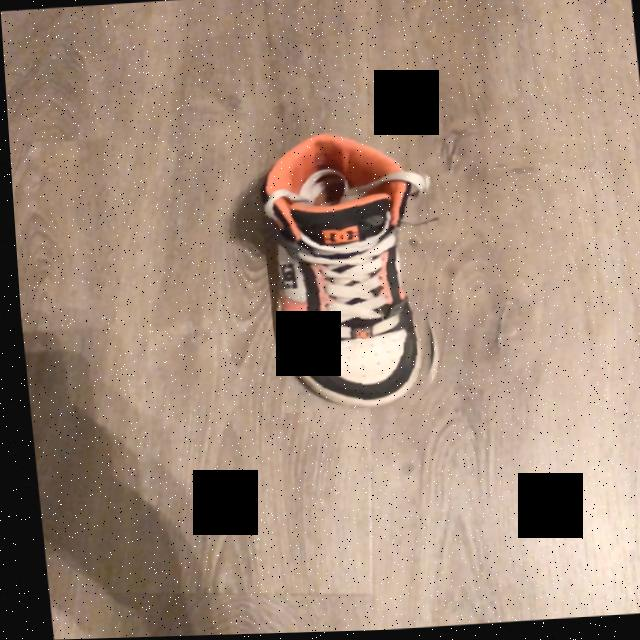shoe: (257, 136, 425, 410)
